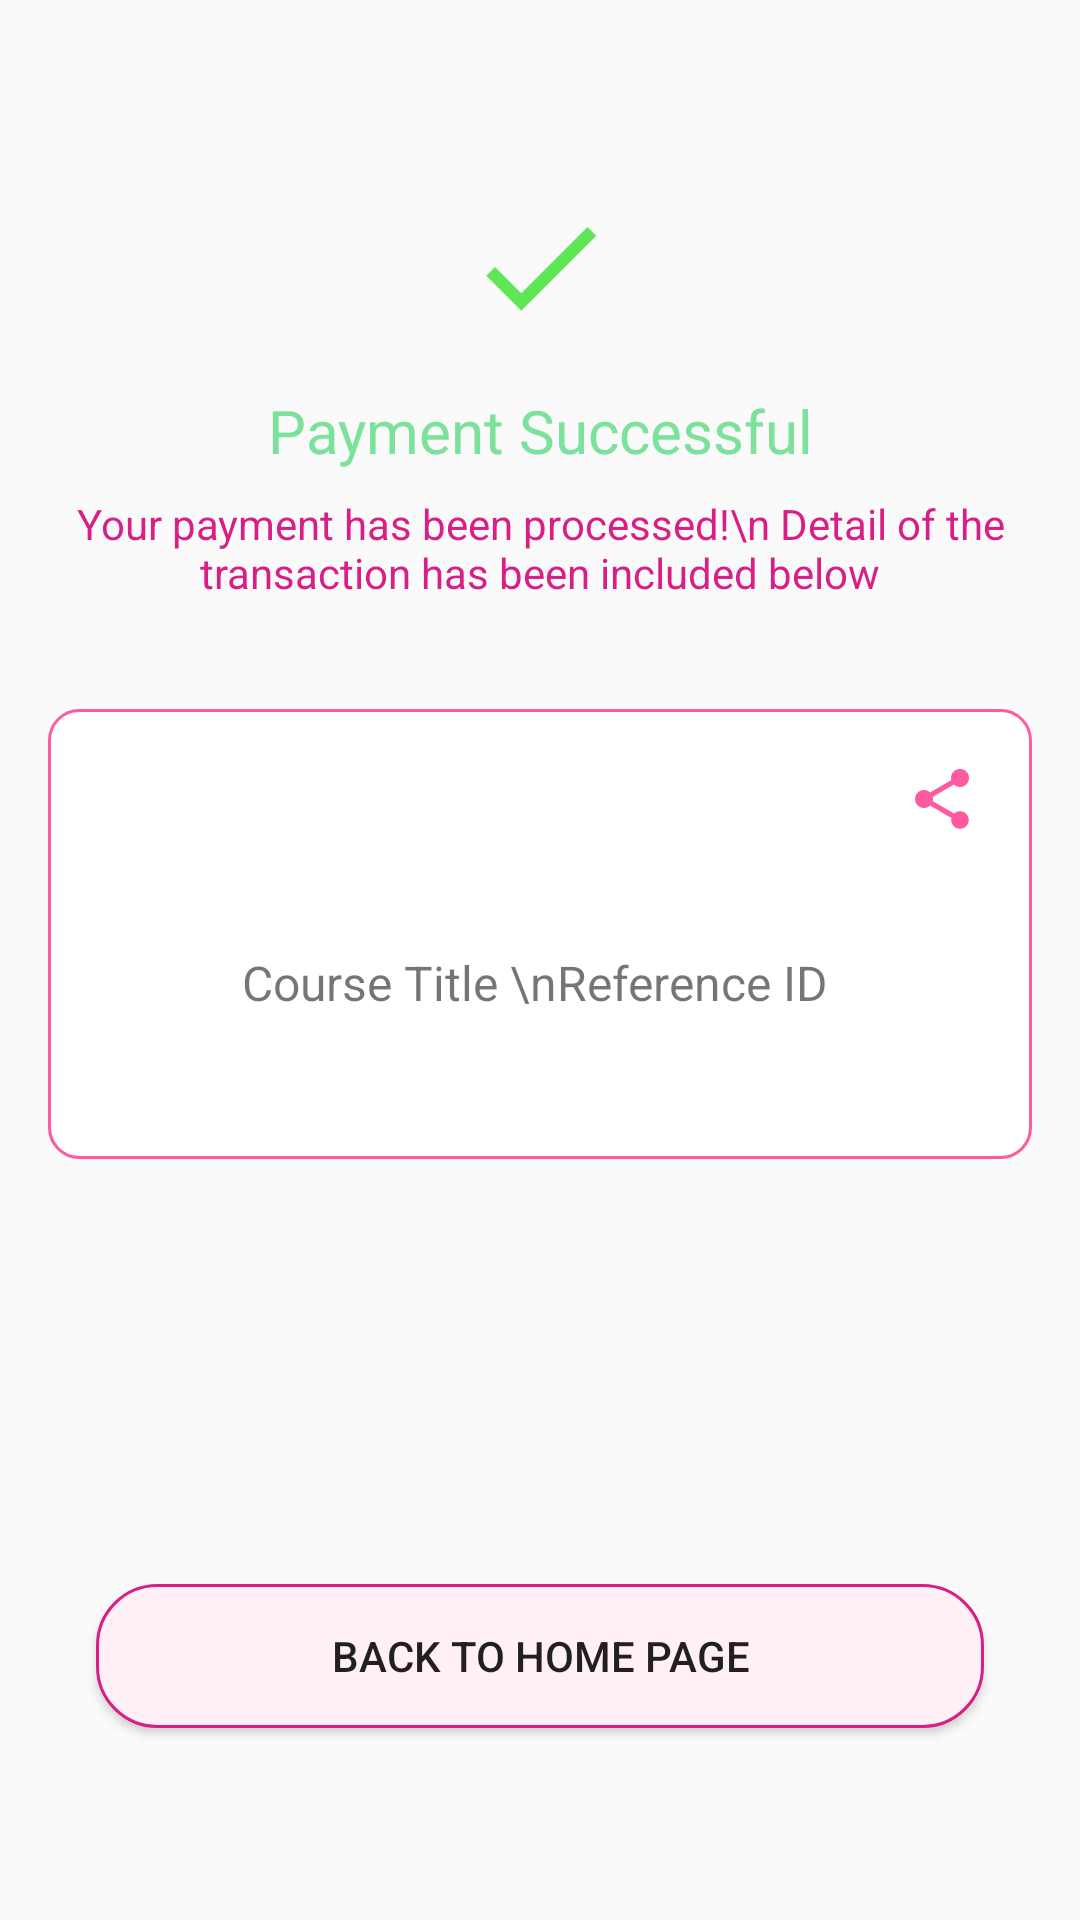

Where icons sit on this 1080x1920 app screen, as (x1, y1, x2, y2):
done: (486, 227, 596, 311)
share: (915, 769, 969, 829)
